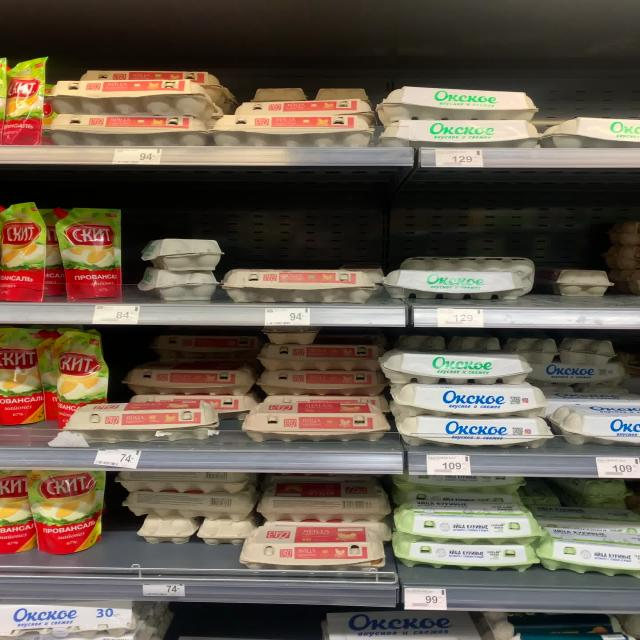egg box: (39, 326, 106, 432), (228, 520, 382, 565), (25, 471, 107, 553), (391, 411, 554, 452), (62, 399, 220, 441), (233, 400, 395, 439), (54, 201, 119, 298), (42, 77, 214, 112), (220, 268, 382, 305), (208, 108, 368, 144), (384, 380, 548, 415), (394, 500, 536, 540), (46, 109, 206, 144), (368, 84, 538, 116), (0, 200, 48, 300), (258, 484, 394, 519), (388, 265, 530, 298), (379, 350, 533, 380), (377, 117, 537, 145), (539, 526, 636, 572), (393, 530, 531, 562), (5, 322, 46, 428), (252, 341, 384, 372), (0, 51, 44, 141), (110, 365, 257, 389)
